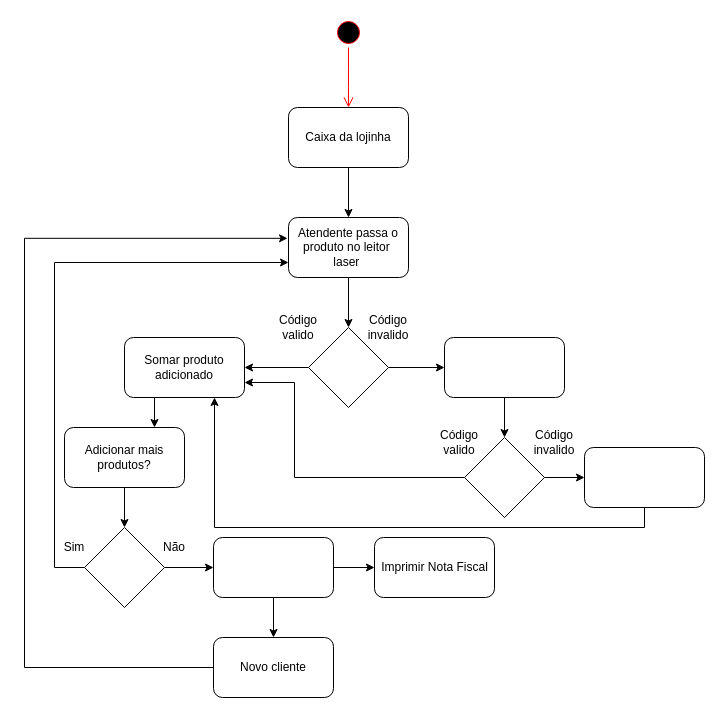
The diagram is 722 pixels wide and 715 high, and some of its shapes have lost their labels. The centre of each missing label's shape, as x and y in pixels:
"Digite o código manualmente" goes at (x=644, y=477).
"Finalizar compra" goes at (x=273, y=567).
"Tente passar 3 vezes o código" goes at (x=504, y=367).
